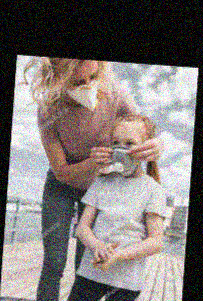with_mask: (66, 65, 99, 113), (109, 134, 142, 177)
